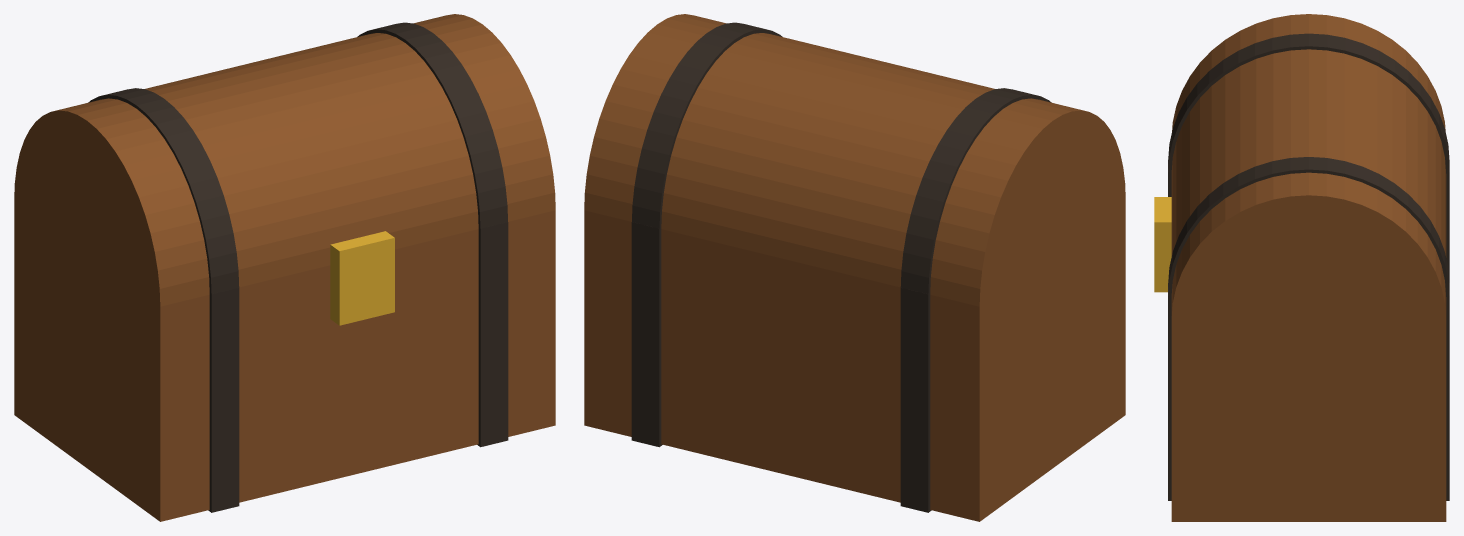
The model's file is schatztruhe.glb.
The picture shows the model from 3 angles, left to right: view 1: azimuth 30°, elevation 25°; view 2: azimuth 150°, elevation 25°; view 3: azimuth 270°, elevation 25°; orthographic projection. The views are drawn at different scales.
Visible parts, largest first — view 1: korpus, deckel, bogen0, bogen1, band0, band1, schloss; view 2: korpus, deckel, bogen0, bogen1, band0, band1; view 3: deckel, korpus, bogen1, bogen0, band1, schloss, band0.
Part boxes in pixels (x1=…): korpus: x1=14, y1=200, x2=555, y2=521; deckel: x1=14, y1=14, x2=555, y2=306; bogen0: x1=88, y1=88, x2=239, y2=294; bogen1: x1=357, y1=22, x2=507, y2=229; band0: x1=208, y1=287, x2=239, y2=512; band1: x1=477, y1=222, x2=508, y2=447; schloss: x1=330, y1=231, x2=394, y2=325; korpus: x1=584, y1=200, x2=1125, y2=521; deckel: x1=584, y1=14, x2=1125, y2=306; bogen0: x1=900, y1=88, x2=1051, y2=294; bogen1: x1=632, y1=22, x2=782, y2=229; band0: x1=900, y1=287, x2=931, y2=512; band1: x1=631, y1=222, x2=662, y2=447; deckel: x1=1171, y1=14, x2=1446, y2=319; korpus: x1=1171, y1=319, x2=1446, y2=521; bogen1: x1=1168, y1=157, x2=1449, y2=296; bogen0: x1=1168, y1=33, x2=1449, y2=172; band1: x1=1168, y1=283, x2=1449, y2=500; schloss: x1=1154, y1=197, x2=1171, y2=292; band0: x1=1168, y1=160, x2=1449, y2=282.
Bounding box in the file's own units: 0.5 × 0.426 × 0.344.
